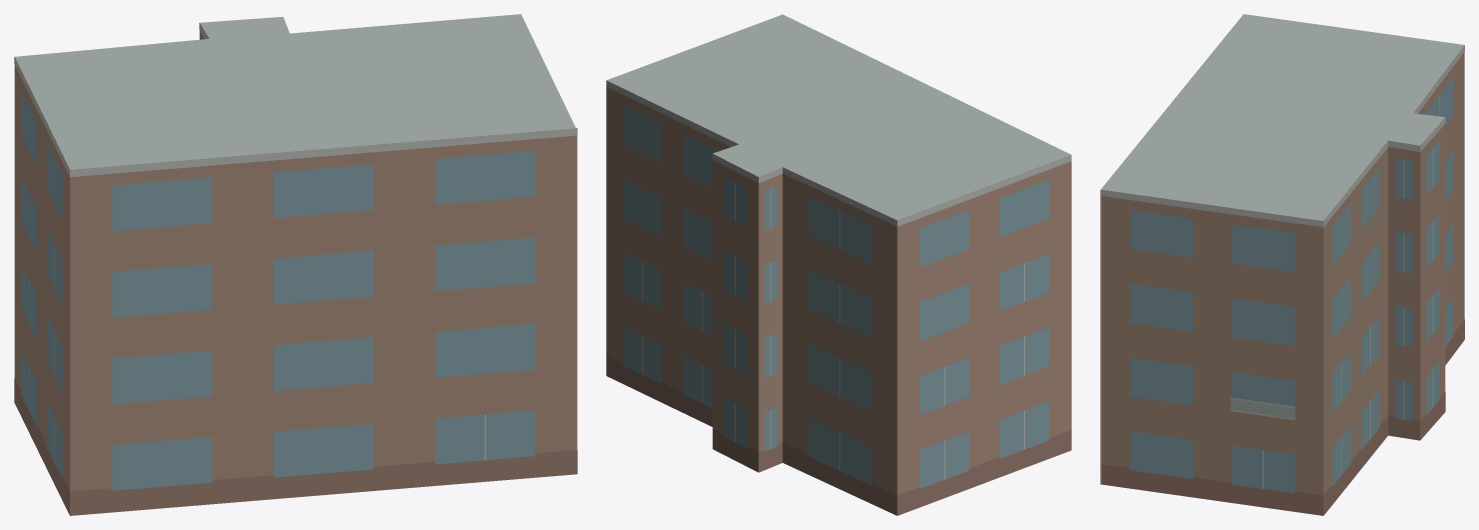
Rendered from survey-upis-32947382.glb.
3 renders of one model, left to right at view 1: azimuth 30°, elevation 25°; view 2: azimuth 150°, elevation 25°; view 3: azimuth 270°, elevation 25°, orthographic. The views are drawn at different scales.
Parts seen in each view (by area): view 1: survey-upis-32947382.tmp; view 2: survey-upis-32947382.tmp; view 3: survey-upis-32947382.tmp.
Part boxes in pixels (x1,y1,x2,y2): survey-upis-32947382.tmp: [14, 14, 577, 515]; survey-upis-32947382.tmp: [606, 14, 1071, 515]; survey-upis-32947382.tmp: [1100, 14, 1464, 515].
Bounding box in the file's own units: 17.26 × 11.45 × 12.84.
